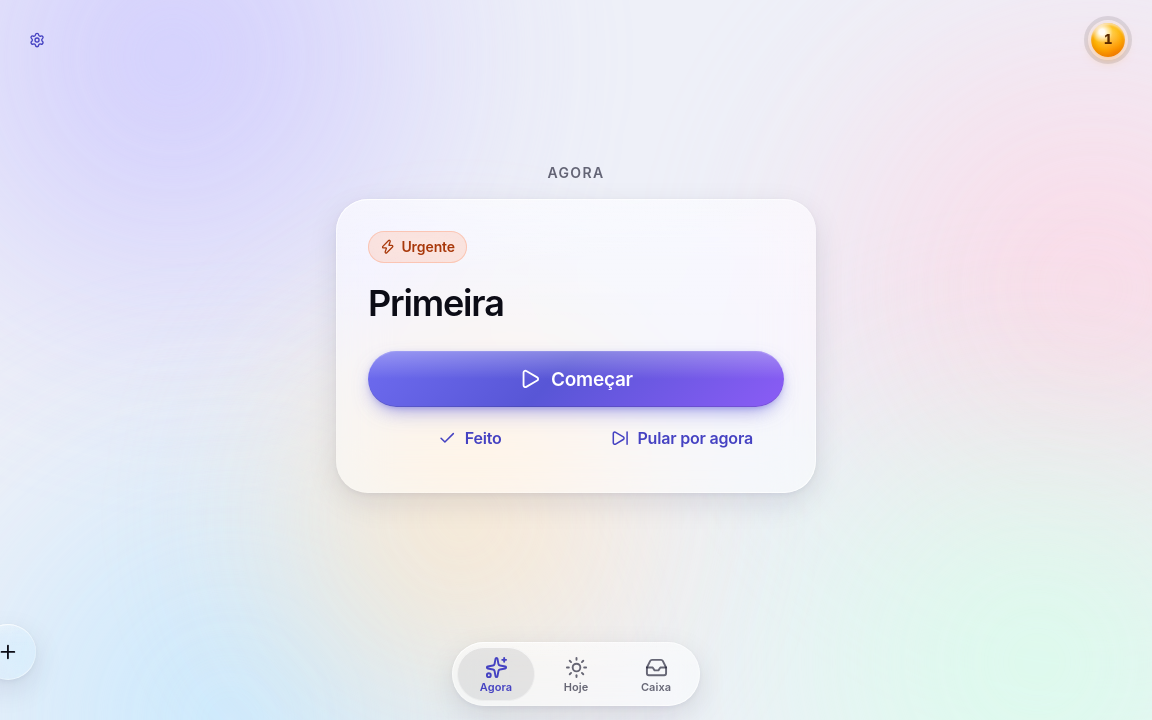
Test: Agora › Pular por agora mostra a próxima tarefa, sem punição
expect the heading "Primeira" is shown: met, box left=368, top=281, right=504, bottom=325
Click the button "Pular por agora".
click(682, 438)  # box left=580, top=415, right=784, bottom=461
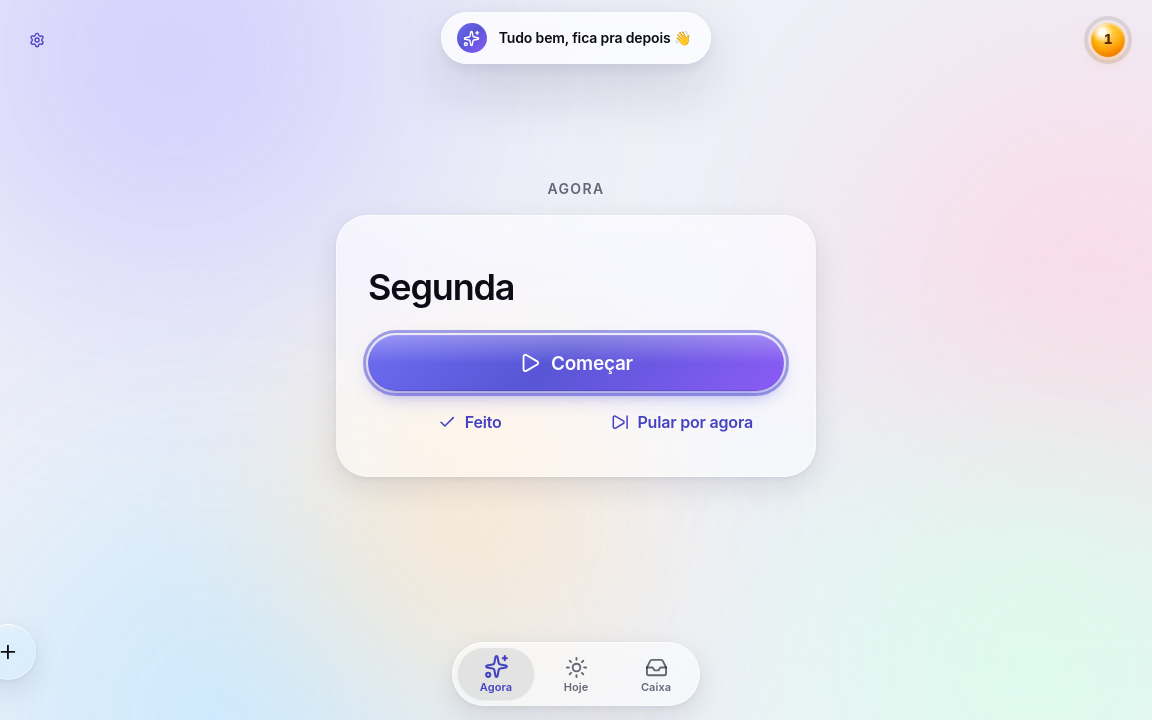
expect the heading "Segunda" is shown: met, box left=368, top=265, right=514, bottom=309
